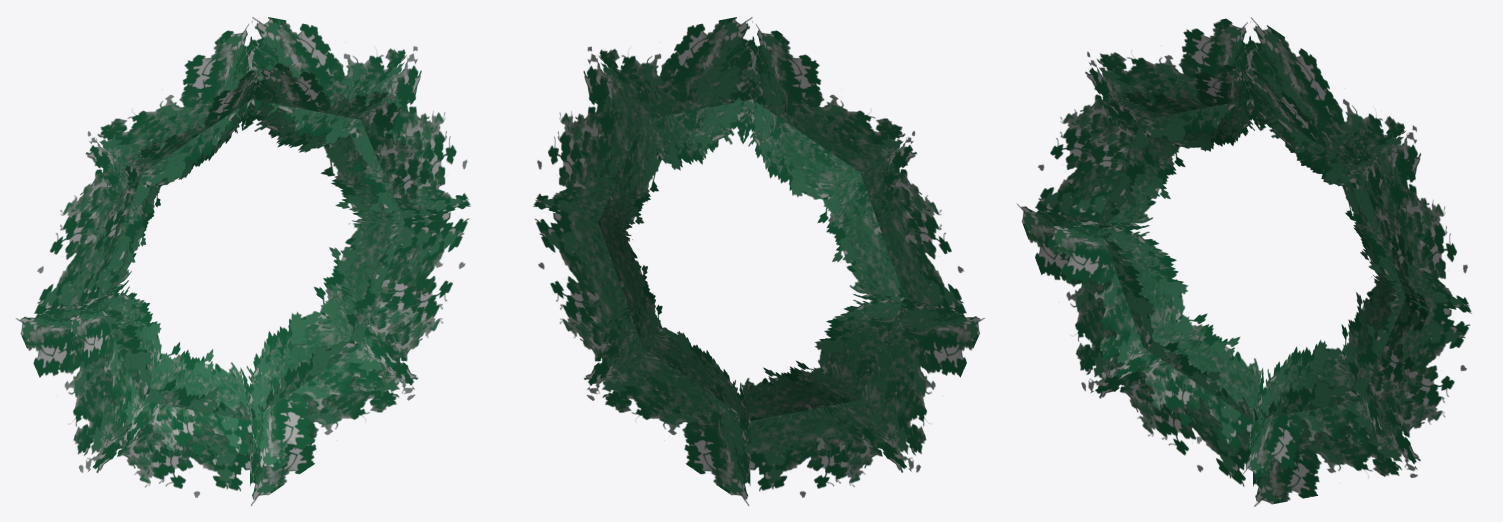
Rendered from Wreath02.glb.
3 renders of one model, left to right at view 1: azimuth 30°, elevation 25°; view 2: azimuth 150°, elevation 25°; view 3: azimuth 330°, elevation 25°, orthographic.
Parts seen in each view (by area): view 1: Wreath02; view 2: Wreath02; view 3: Wreath02.
Boxes of the visible parts, x1,y1,x2,y2 form: Wreath02: (16,17,470,505); Wreath02: (533,17,984,505); Wreath02: (1017,17,1471,506).
Size of the model in its own units: 1.58 by 1.58 by 0.1569.
Materials: 1 (1 with a texture image).
